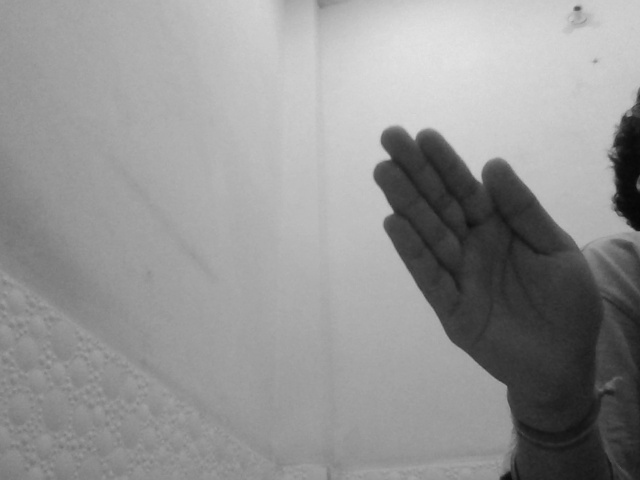Hello: (371, 122, 605, 400)
